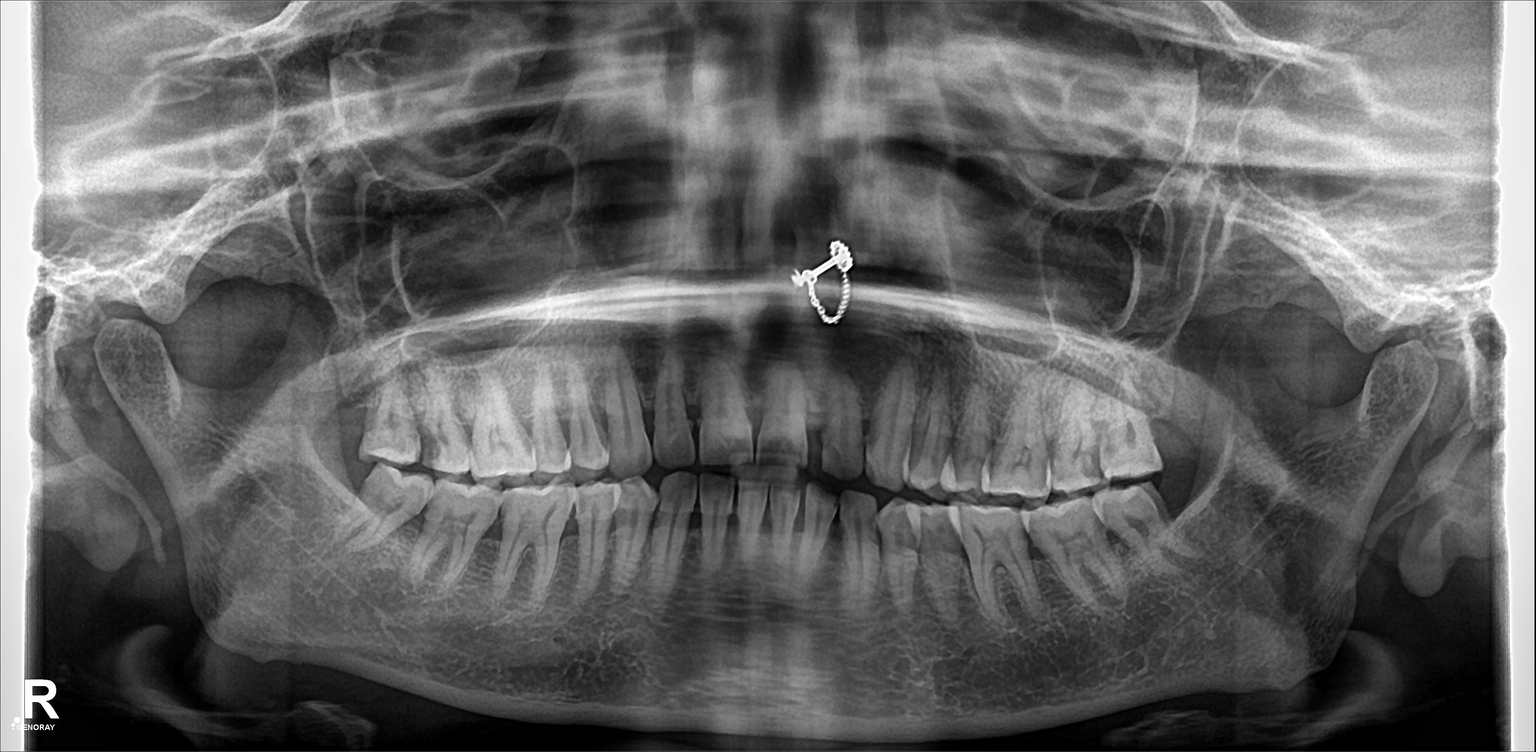Dental Caries: (410, 430, 439, 462), (1080, 445, 1104, 475)
Missing Tooth: (1147, 370, 1201, 448), (320, 372, 365, 454), (1164, 471, 1207, 535), (331, 454, 355, 527)
